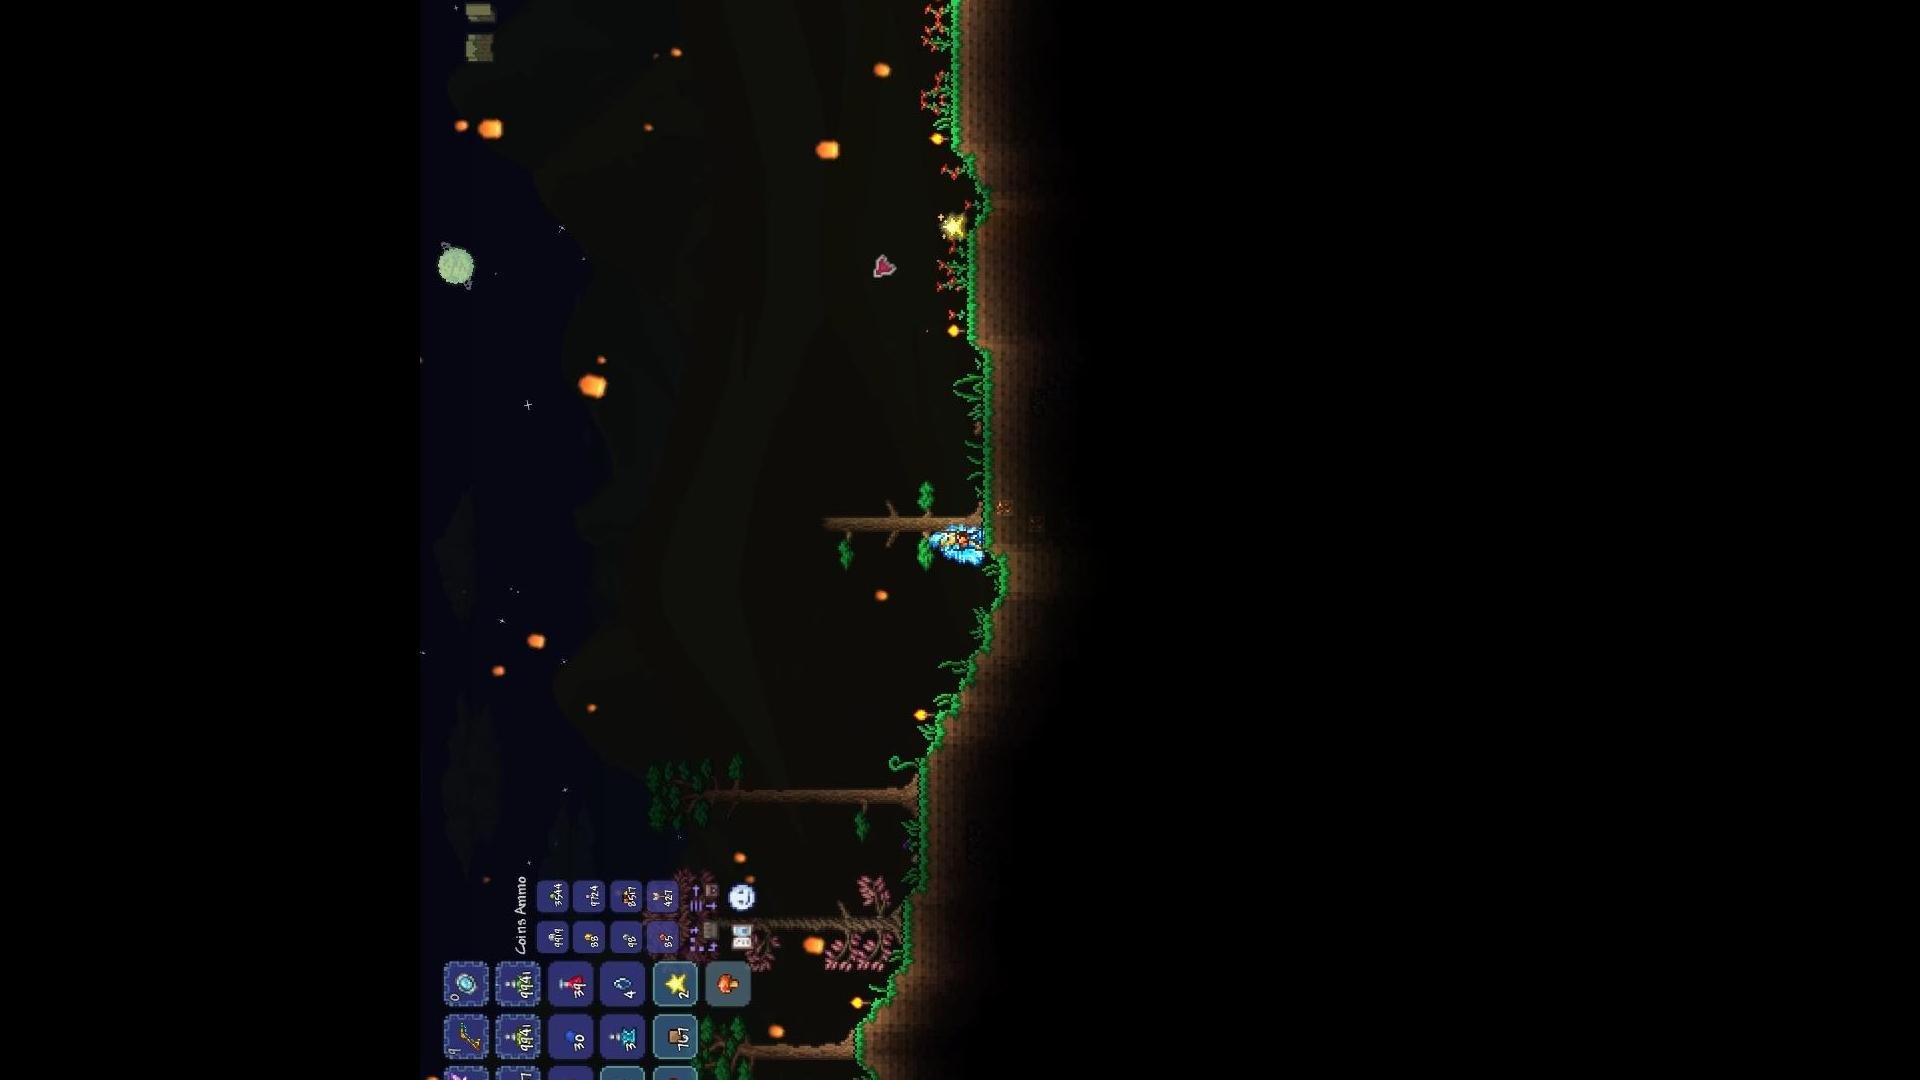mirror: (454, 971, 481, 997)
star: (662, 971, 691, 996), (943, 214, 965, 237)
